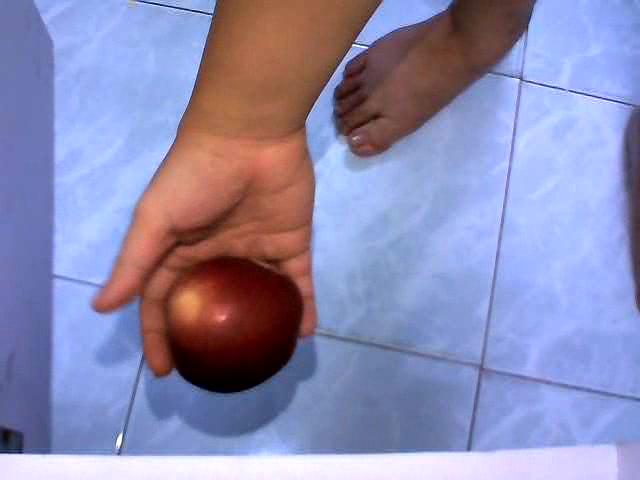apple: (161, 254, 303, 393)
